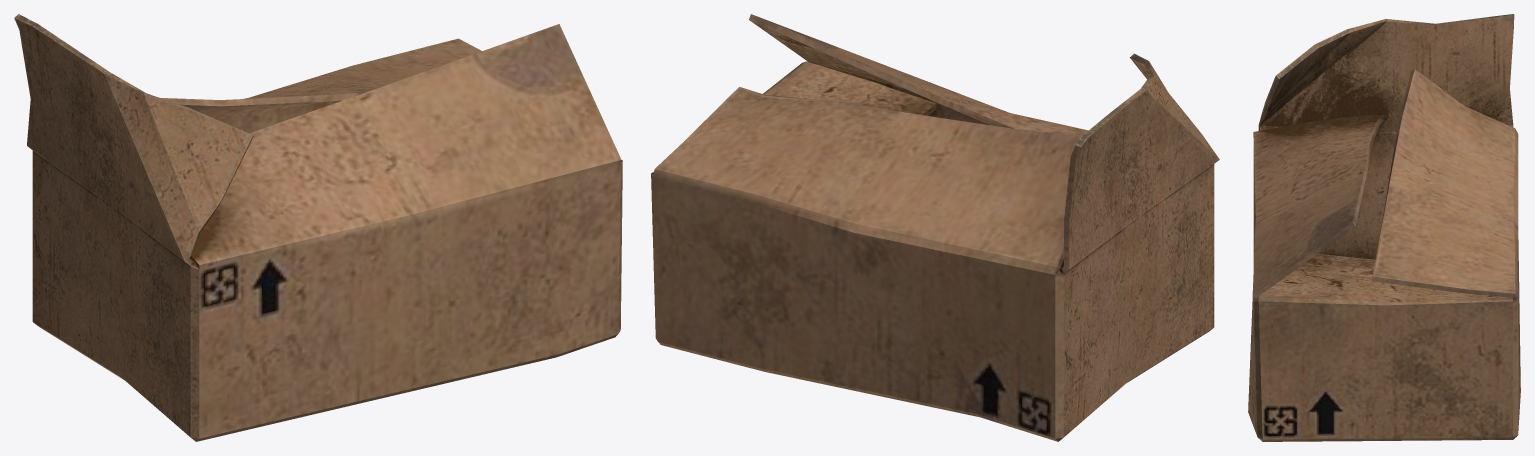
File: SM_Cardboard_Box03.glb
The picture shows the model from 3 angles, left to right: view 1: azimuth 30°, elevation 25°; view 2: azimuth 150°, elevation 25°; view 3: azimuth 270°, elevation 25°; orthographic projection. The views are drawn at different scales.
Parts seen in each view (by area): view 1: SM_Cardboard_Box03; view 2: SM_Cardboard_Box03; view 3: SM_Cardboard_Box03.
Part boxes in pixels (<box>): SM_Cardboard_Box03: <box>14,14,622,441</box>; SM_Cardboard_Box03: <box>651,14,1219,441</box>; SM_Cardboard_Box03: <box>1248,14,1520,441</box>.
Size of the model in its own units: 0.3962 by 0.2656 by 0.2578.
1 material, 1 textured.
